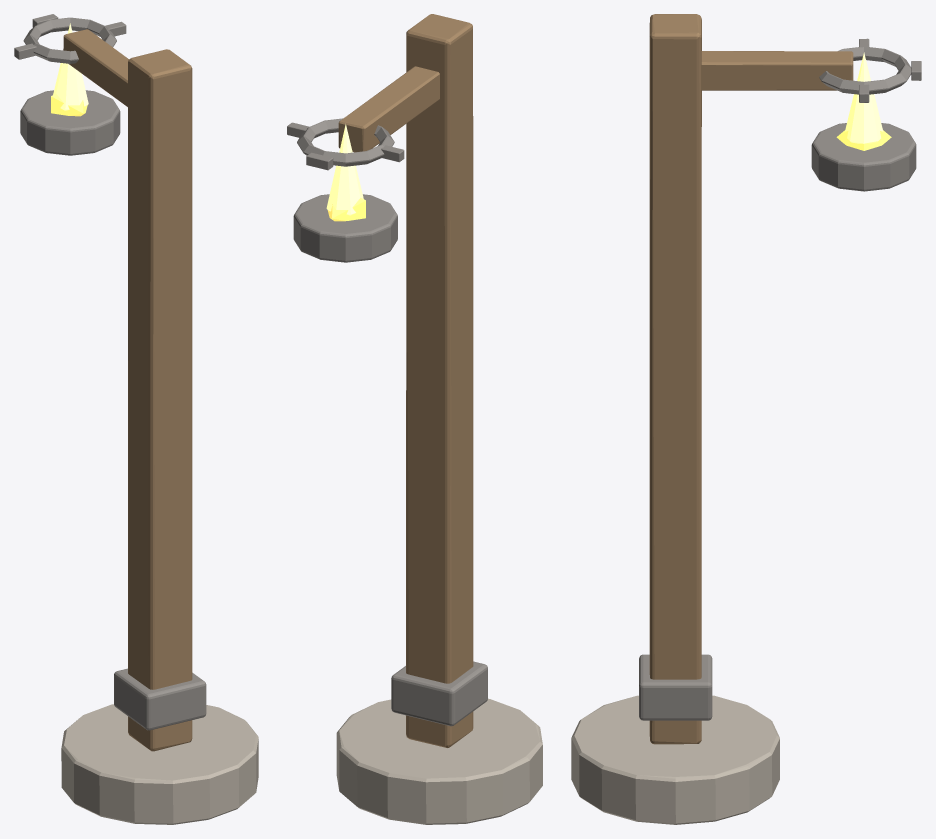
Rendered from 40-Infraestructura_farola_fuego.glb.
3 views of the same model, side by side, from view 1: azimuth 30°, elevation 25°; view 2: azimuth 150°, elevation 25°; view 3: azimuth 270°, elevation 25° (orthographic). The views are drawn at different scales.
Visible parts, largest first — view 1: SM_Farola_M_Madera_Farola, SM_Farola_M_Piedra_Farola, SM_Farola_M_Hierro_Farola, SM_Farola_M_Llama_Farola, SM_Farola_M_Brasa_Farola; view 2: SM_Farola_M_Madera_Farola, SM_Farola_M_Piedra_Farola, SM_Farola_M_Hierro_Farola, SM_Farola_M_Llama_Farola, SM_Farola_M_Brasa_Farola; view 3: SM_Farola_M_Madera_Farola, SM_Farola_M_Piedra_Farola, SM_Farola_M_Hierro_Farola, SM_Farola_M_Llama_Farola.
Boxes of the visible parts, box(x1,y1,x2,y2) form: SM_Farola_M_Madera_Farola: box(63, 29, 192, 751); SM_Farola_M_Piedra_Farola: box(61, 704, 258, 824); SM_Farola_M_Hierro_Farola: box(14, 14, 206, 730); SM_Farola_M_Llama_Farola: box(53, 23, 88, 110); SM_Farola_M_Brasa_Farola: box(51, 94, 87, 116); SM_Farola_M_Madera_Farola: box(338, 14, 473, 747); SM_Farola_M_Piedra_Farola: box(336, 698, 542, 824); SM_Farola_M_Hierro_Farola: box(287, 118, 487, 726); SM_Farola_M_Llama_Farola: box(326, 124, 363, 215); SM_Farola_M_Brasa_Farola: box(327, 197, 365, 221); SM_Farola_M_Madera_Farola: box(649, 14, 853, 744); SM_Farola_M_Piedra_Farola: box(571, 695, 779, 824); SM_Farola_M_Hierro_Farola: box(639, 38, 921, 720); SM_Farola_M_Llama_Farola: box(845, 52, 883, 143).
Bounding box in the file's own units: 0.3988 × 1.6 × 0.6693.
